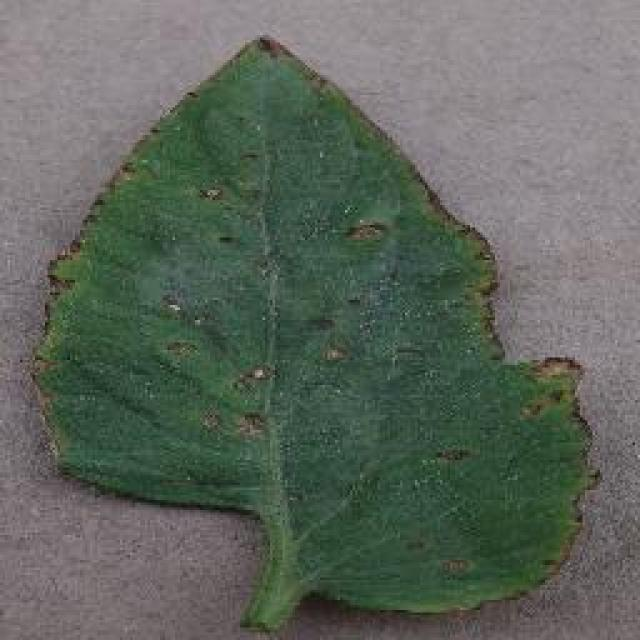Tomato bacterial spot leaf: (49, 33, 596, 625)
